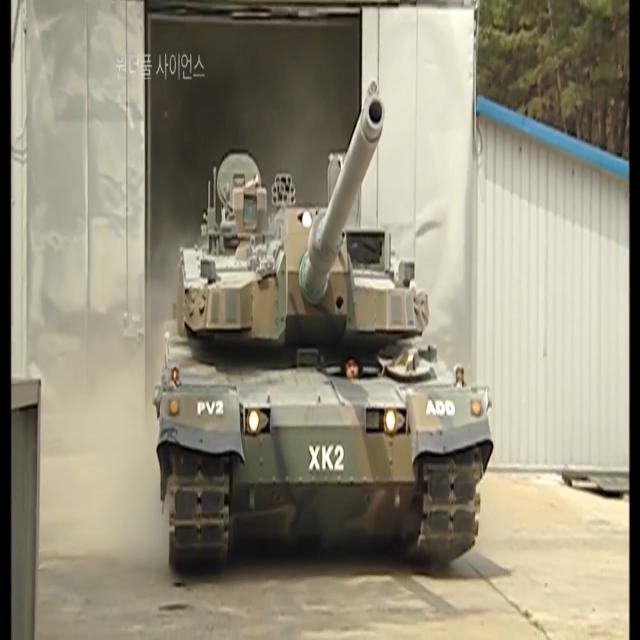korea tank: (150, 78, 496, 574)
